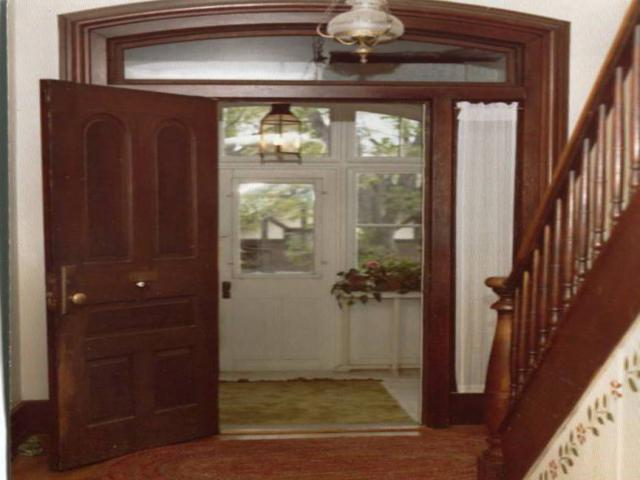Door-handle: (64, 264, 88, 317)
